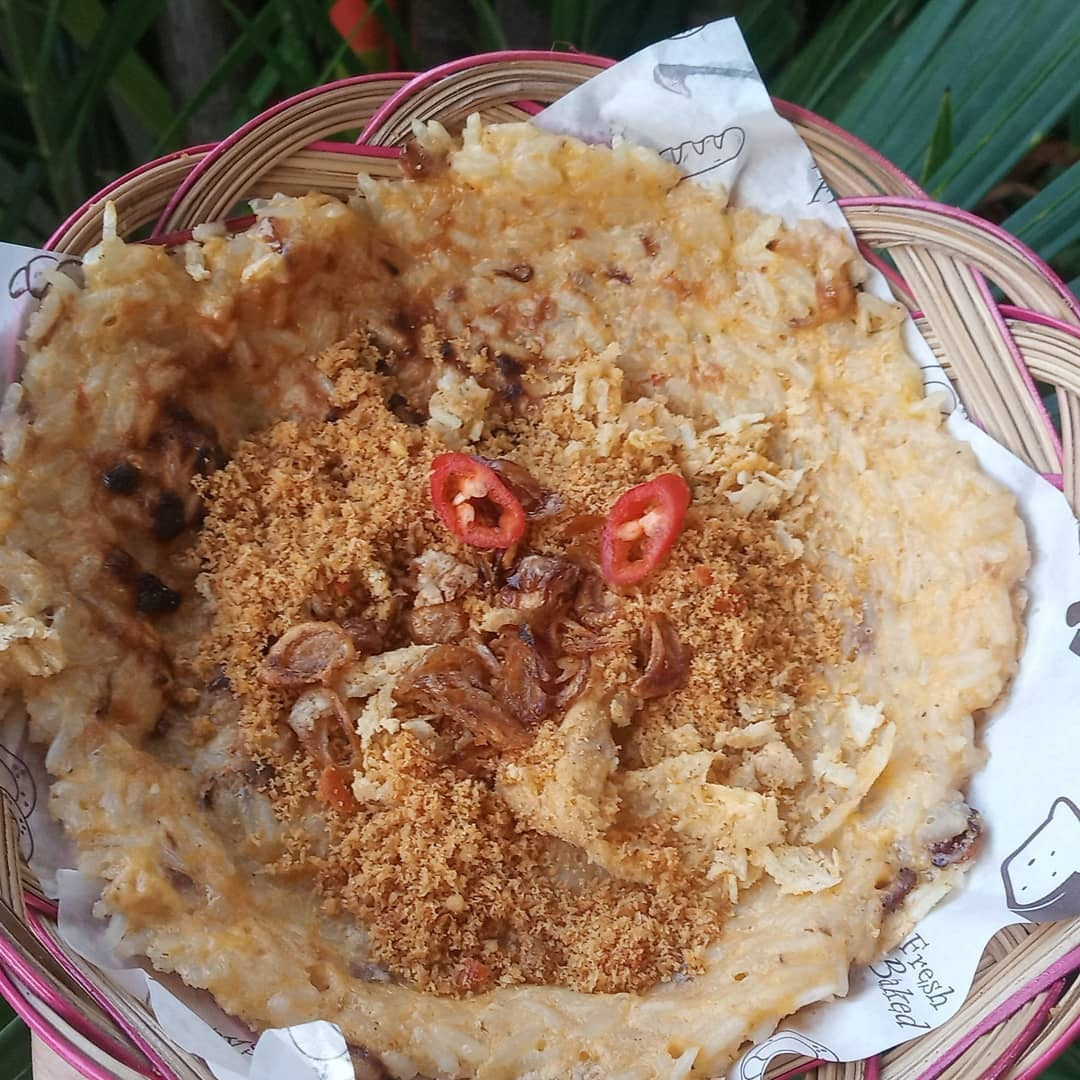kerak_telor: (25, 202, 994, 1047)
